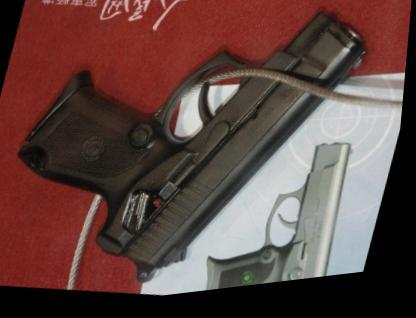pistol: (0, 0, 384, 314), (203, 128, 372, 294)
